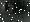person: (11, 3, 17, 15), (3, 3, 9, 12)
